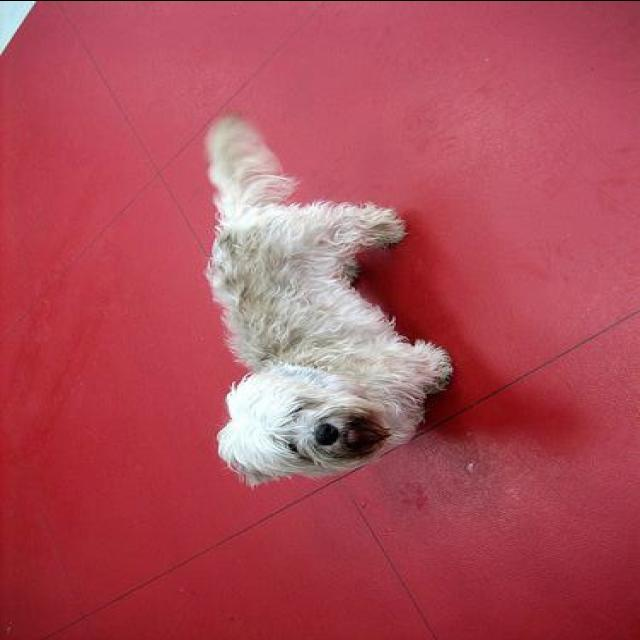dandie_dinmont: (198, 110, 452, 492)
